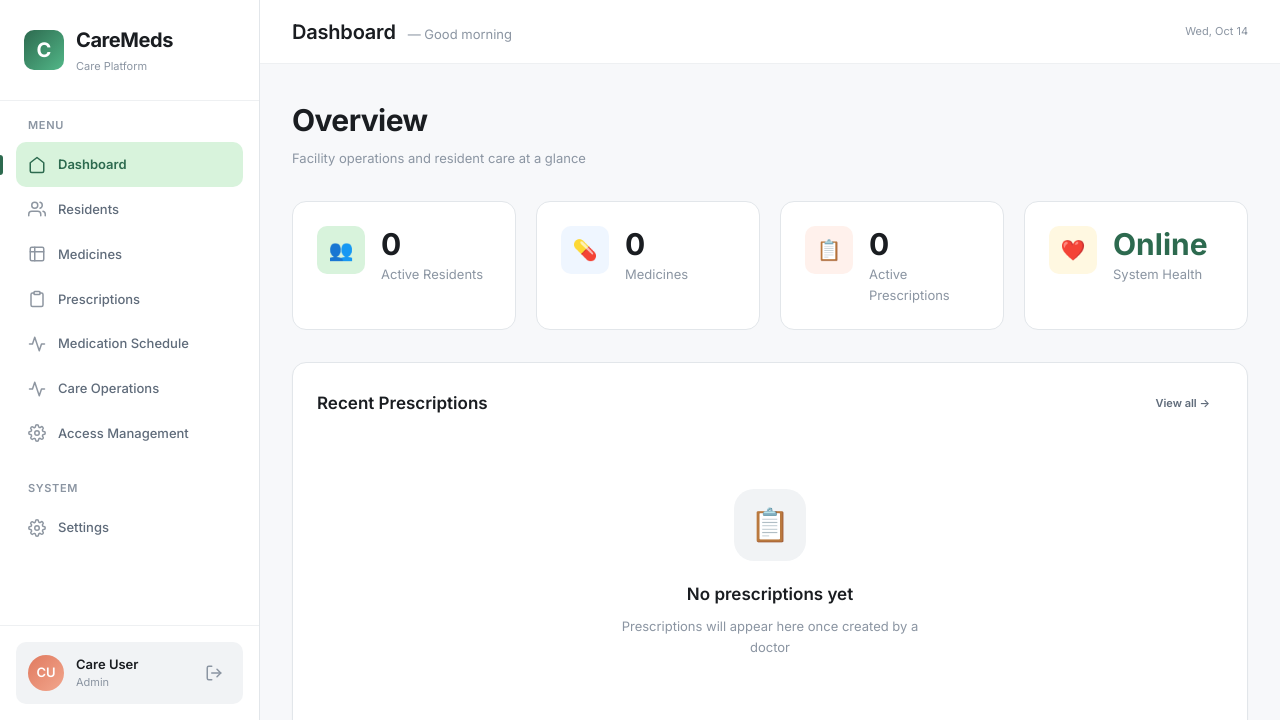
Test: CareMeds role-based application surfaces › revokes the server session on logout and returns to sign-in
Expected: the heading "Overview" is shown, [292,102,427,138]
Click the button named "Sign out".
click(214, 673)  # box [197,656,231,690]
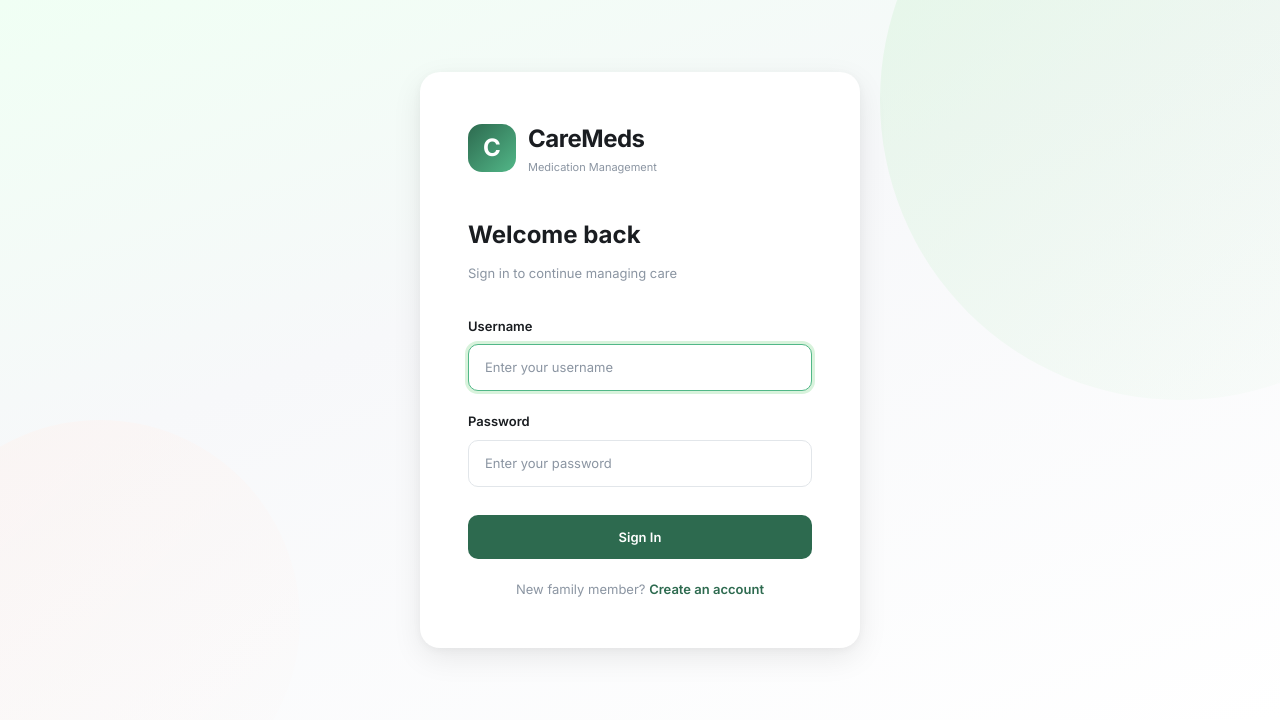
Result: the heading "Welcome back" is shown at [468,220,641,249]
